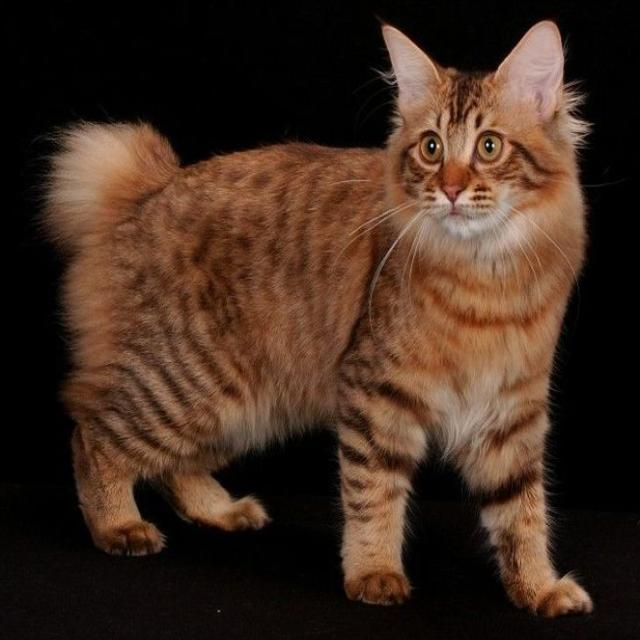American Bobtail: (38, 12, 602, 625)
